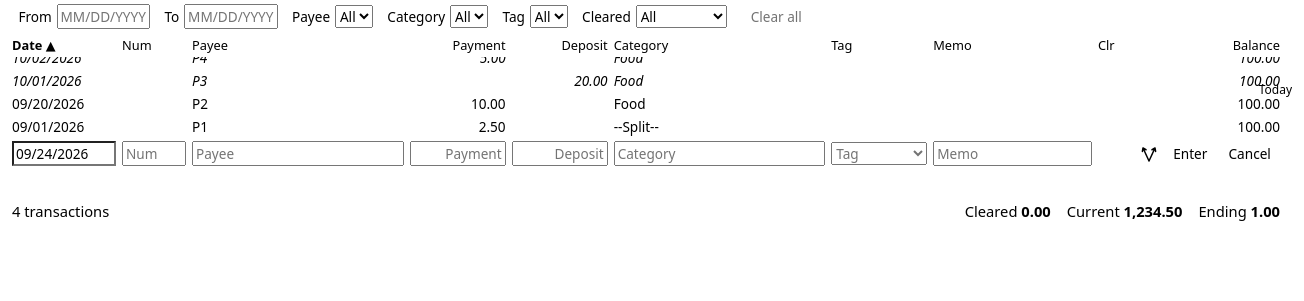
Scenario: RegisterGrid › context menu Split opens the row with its split lines, the category as line 1 (REG-080)
(page scrolled)
Right-click the row "10/01/2026 P3 20.00 Food 100.00" at (47, 81), box left=12, top=69, right=1292, bottom=92
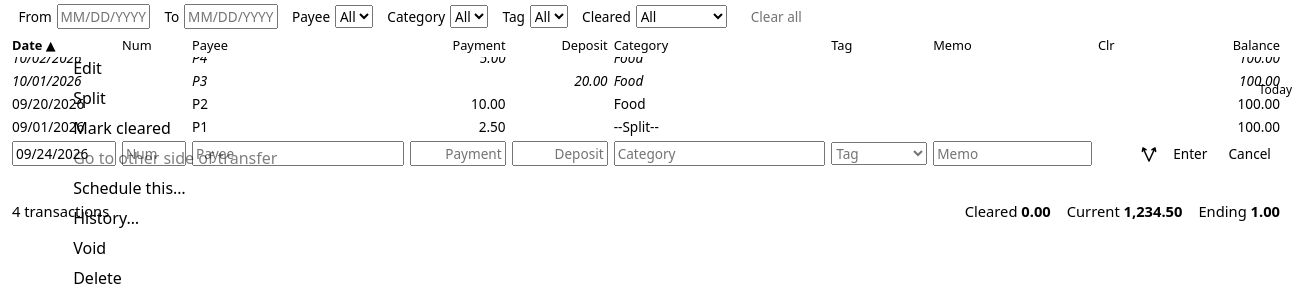
Click the menu item "Split" at (175, 98), box left=65, top=83, right=285, bottom=113
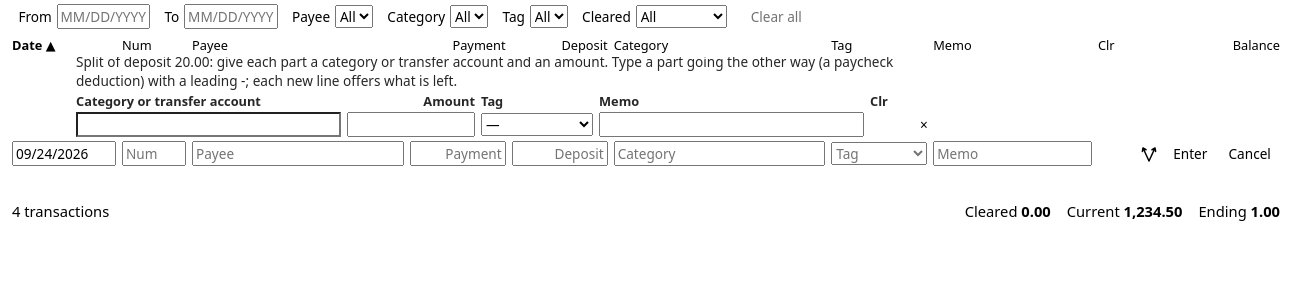
Expected: the dropdown named "Split 1 category" is shown, left=76, top=112, right=341, bottom=137
